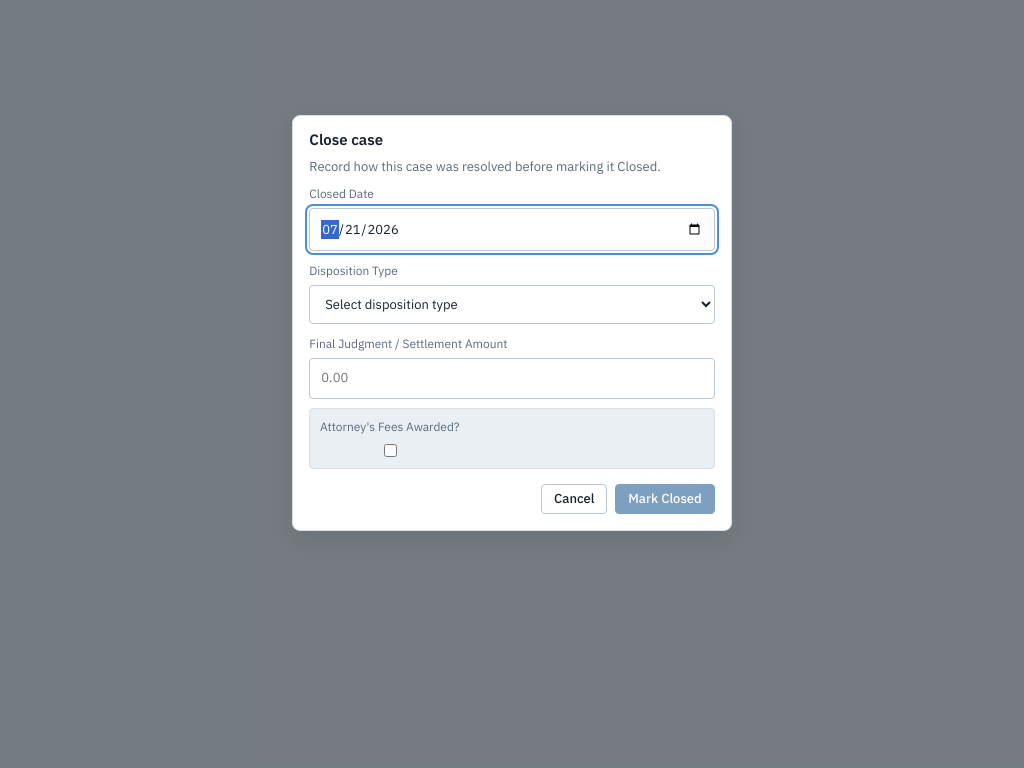
Test case: CloseCaseDialog › disables Mark Closed until Disposition Type and Final Judgment Amount are filled in
Expected: the button "Mark Closed" is disabled, 615,484 -> 715,514
Select "Settlement" in the dropdown labelled "Disposition Type" at (512, 304), box 309,284 -> 715,324
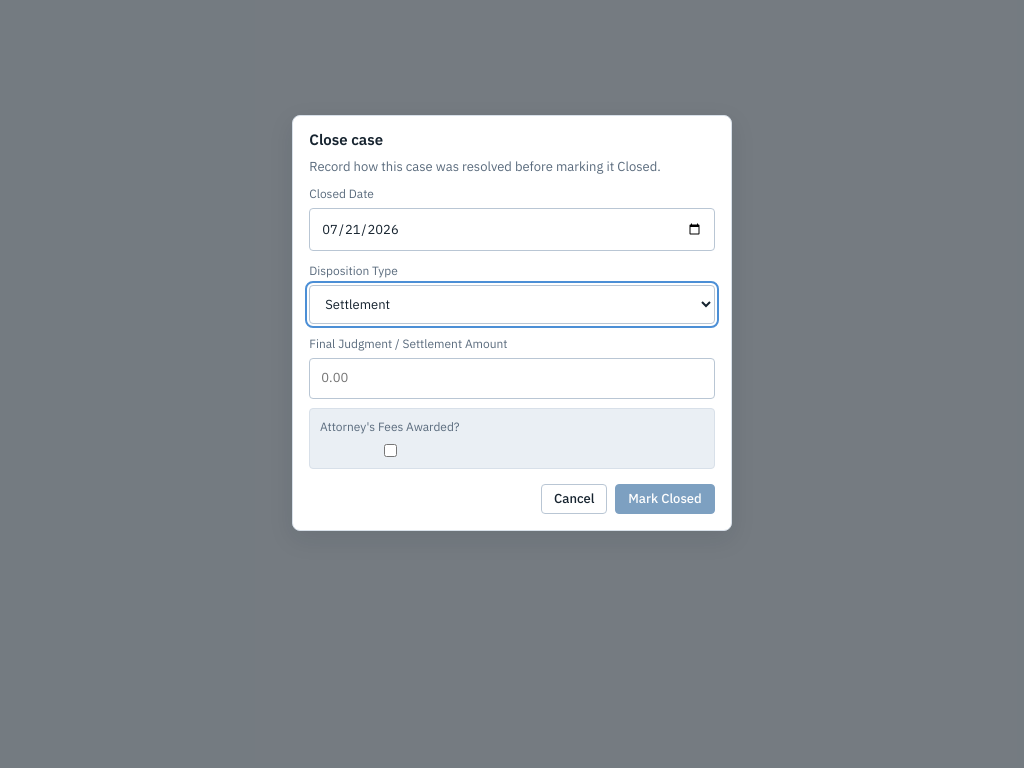
Expected: the button "Mark Closed" is disabled, 615,484 -> 715,514
Type "50000" into the number field labelled "Final Judgment / Settlement Amount" at (512, 378), box 309,358 -> 715,399
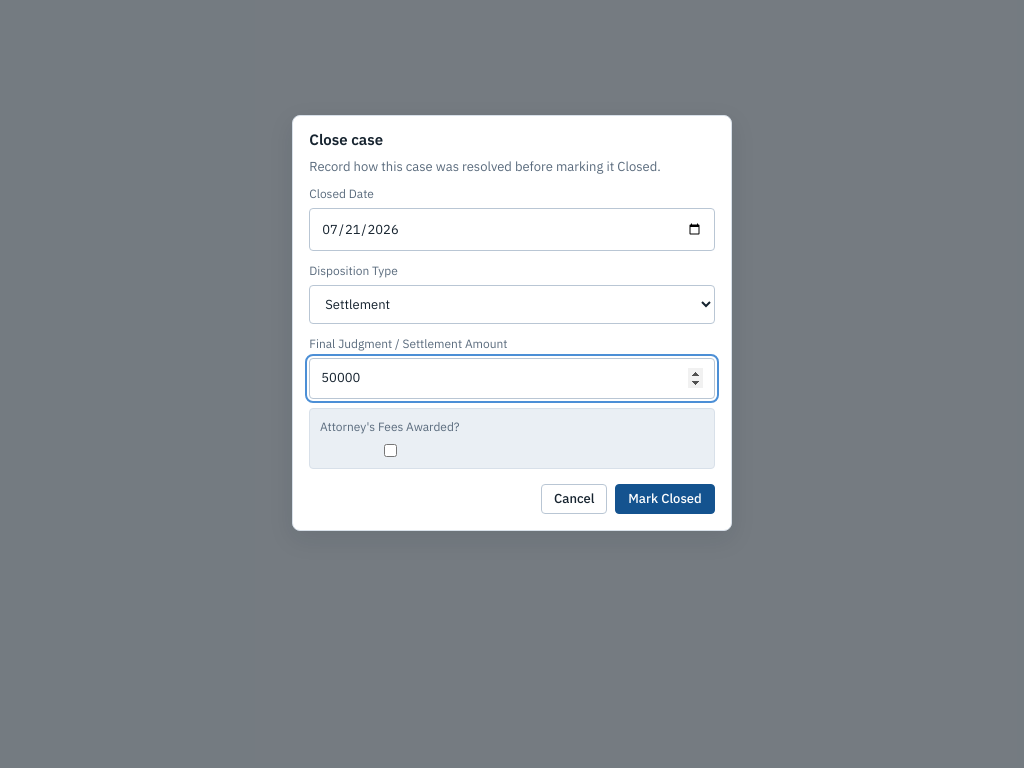
Result: the button "Mark Closed" is enabled at 615,484 -> 715,514
